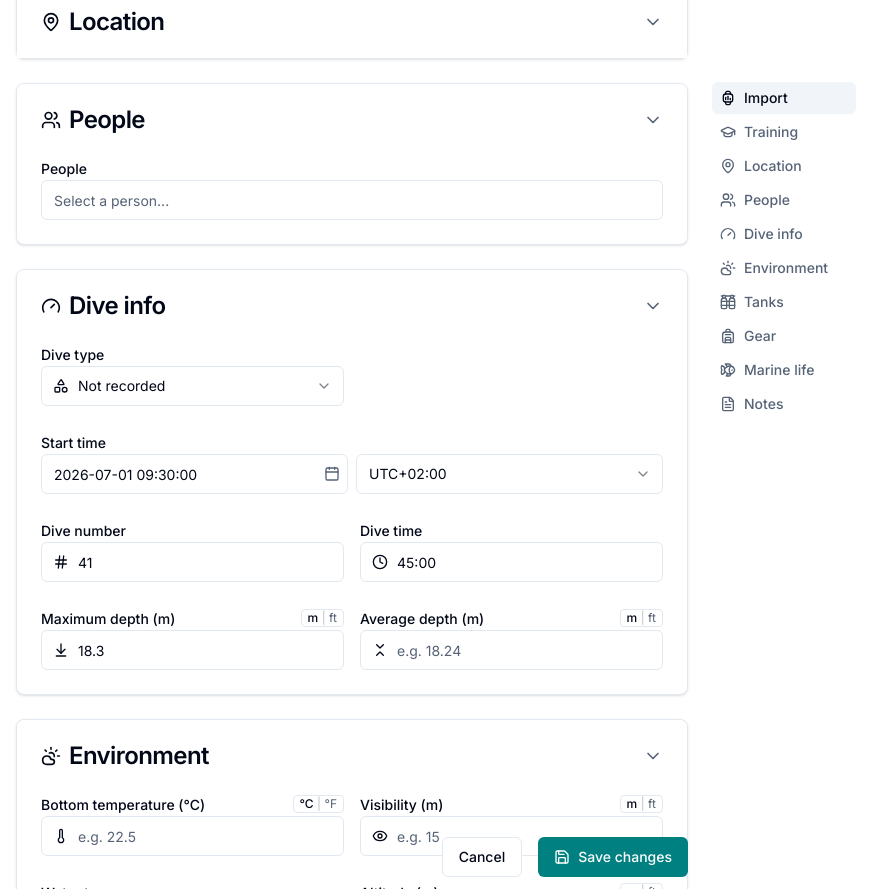
Scenario: a dive's conditions while the form is open › empties a fetched field the new start time cannot be answered for, without asking
(page scrolled)
Select "UTC+03:00" in the dropdown named "UTC offset": (510, 474) [356,454,663,494]
(page scrolled)
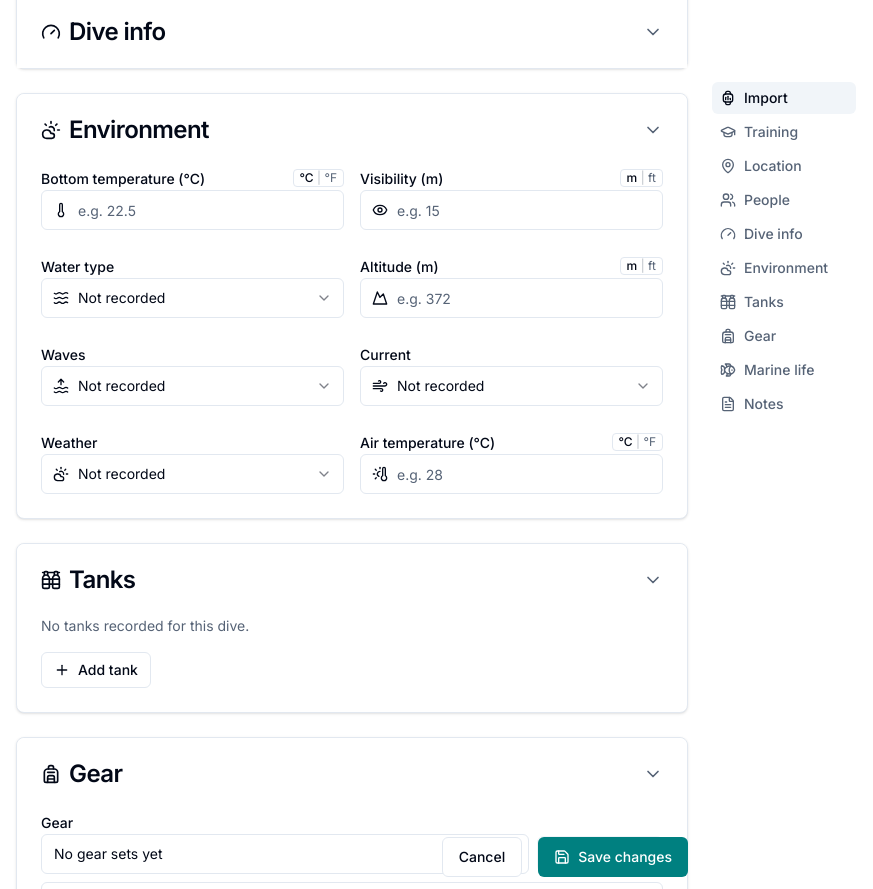
Check: the dropdown labelled "Weather" shows "Not recorded", box [41,454,344,494]
